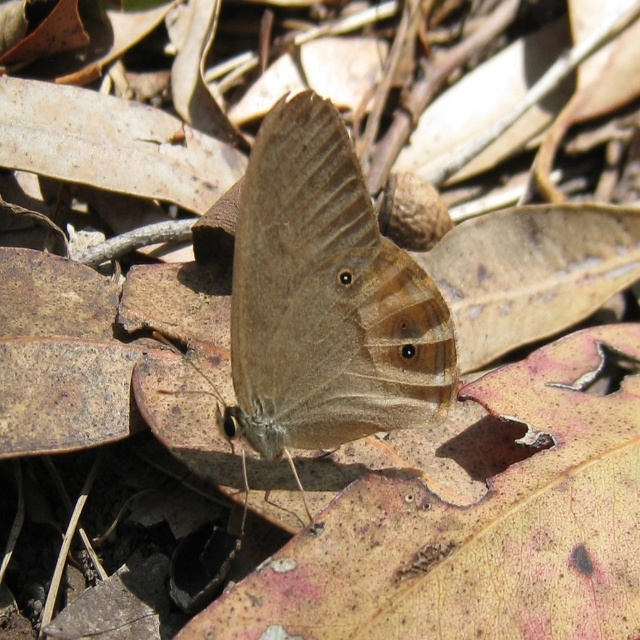Butterfly: (170, 86, 468, 518)
